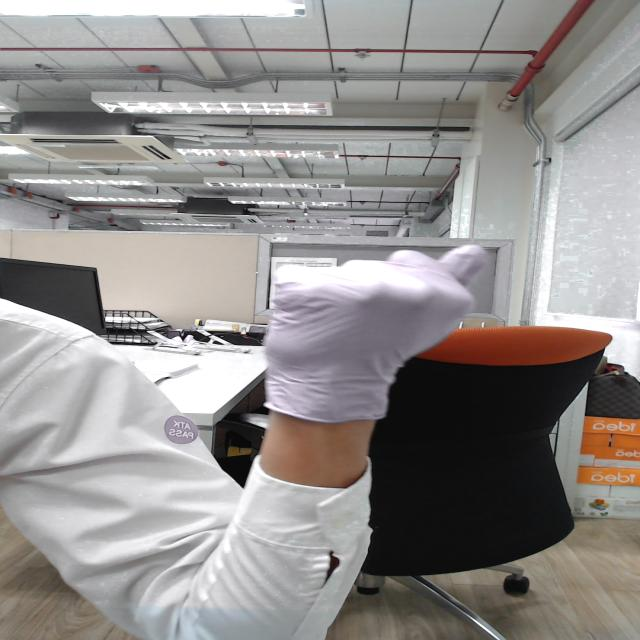glove: (238, 232, 500, 371)
